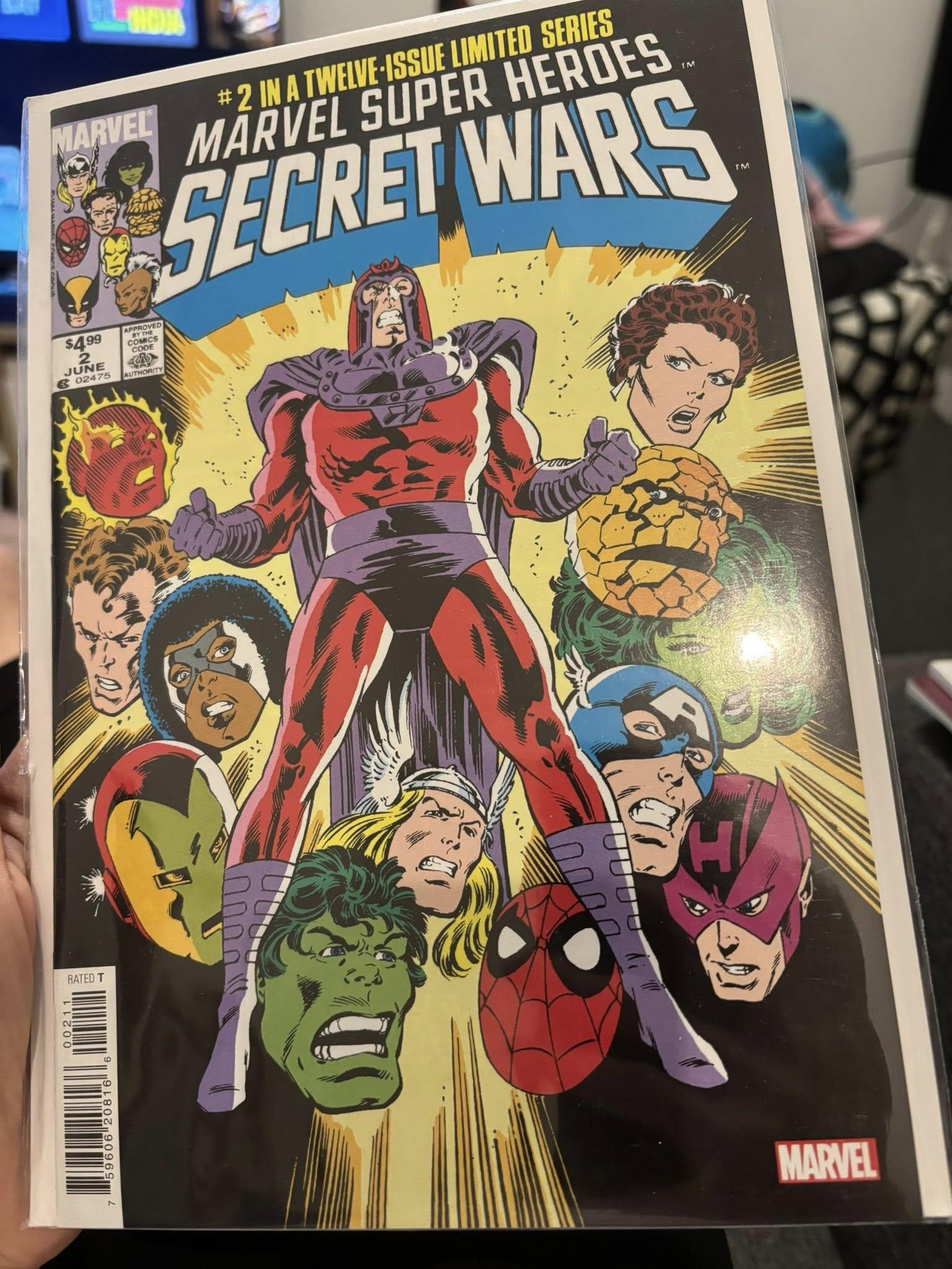comic: (23, 0, 950, 1230)
